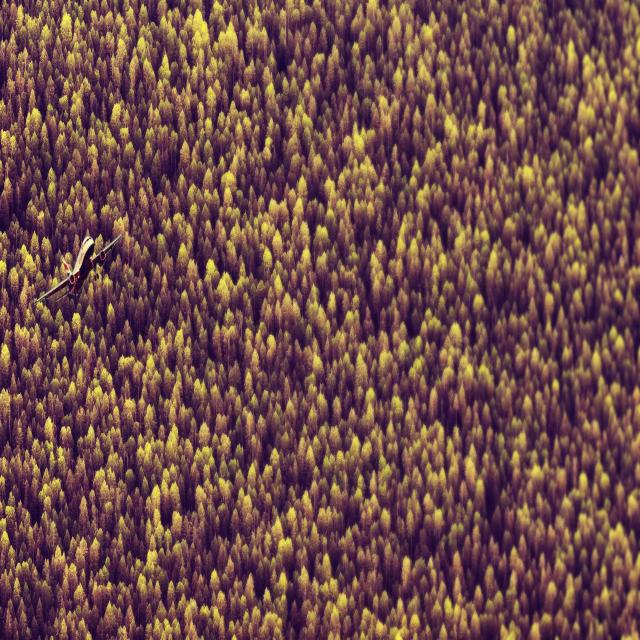airplane: (34, 230, 122, 309)
